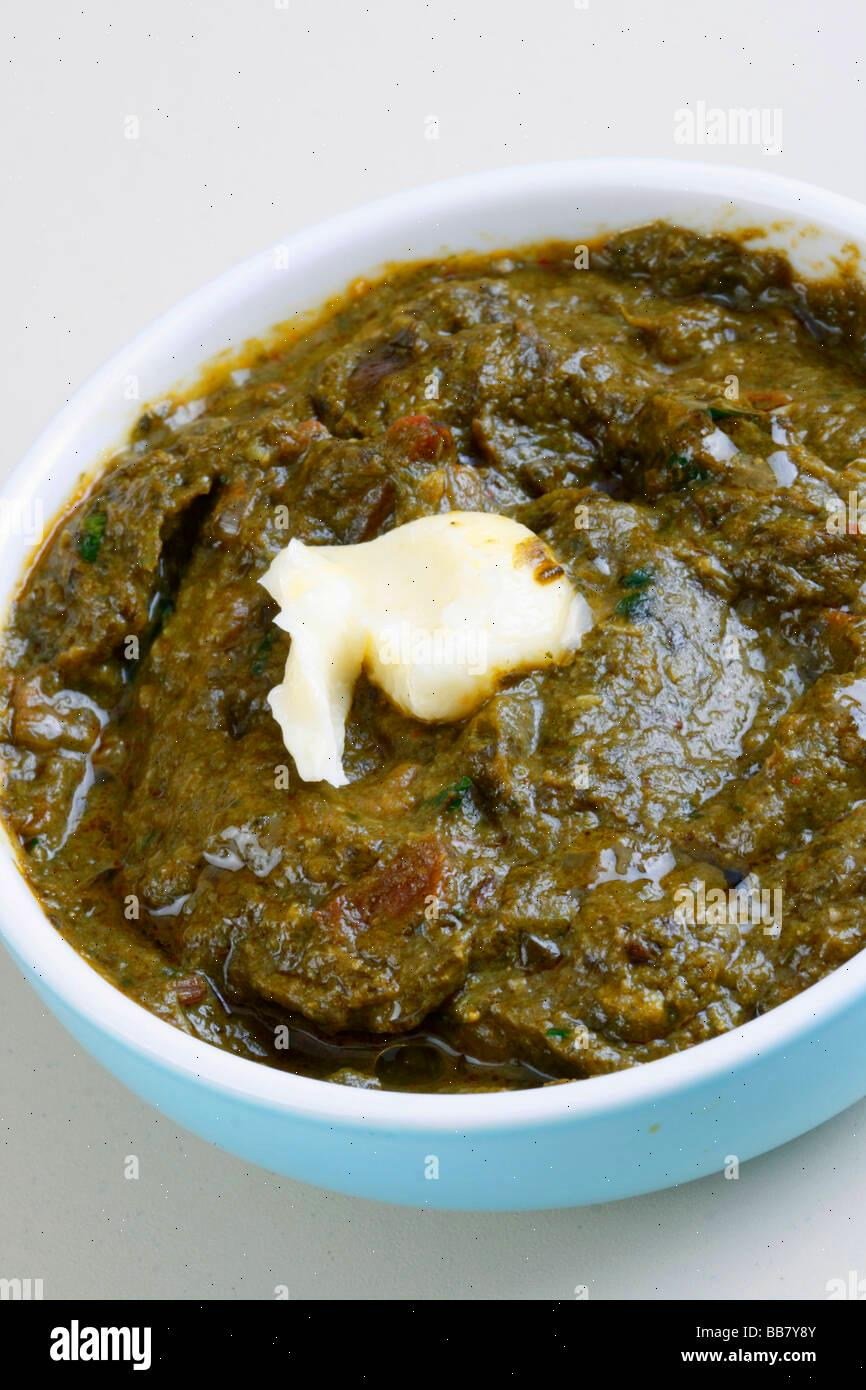saag: (22, 270, 866, 1085)
